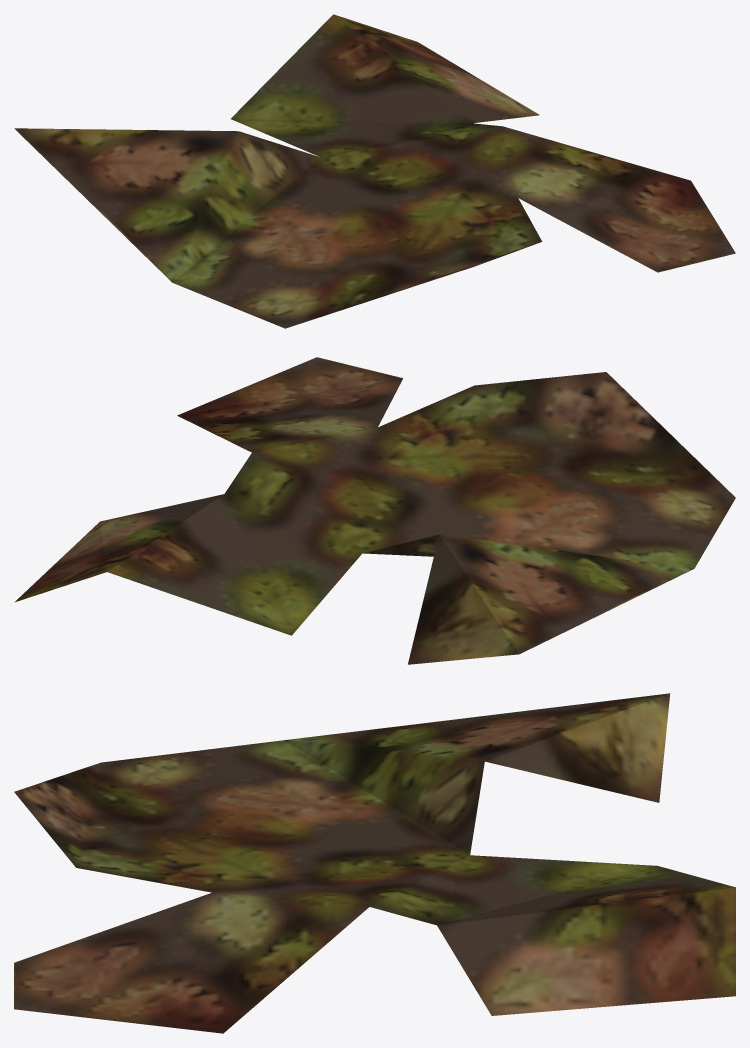
The model's file is leaves.dae.
3 renders of one model, top to bottom at view 1: azimuth 30°, elevation 25°; view 2: azimuth 150°, elevation 25°; view 3: azimuth 270°, elevation 25°, orthographic. The views are drawn at different scales.
Visible parts, largest first — view 1: Mesh_Object; view 2: Mesh_Object; view 3: Mesh_Object.
Boxes of the visible parts, x1=… form: Mesh_Object: x1=14, y1=14, x2=735, y2=328; Mesh_Object: x1=14, y1=357, x2=735, y2=664; Mesh_Object: x1=14, y1=693, x2=735, y2=1033.
Bounding box in the file's own units: 0.7274 × 0.085 × 0.7563.
